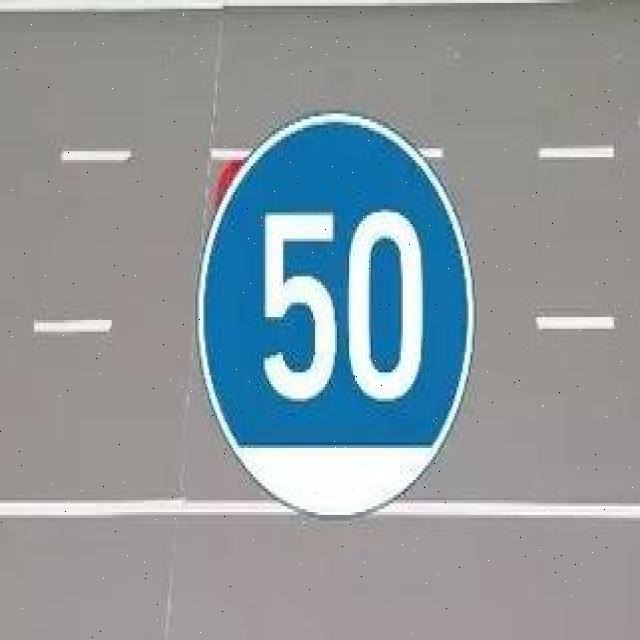speed limit 50: (195, 112, 475, 521)
